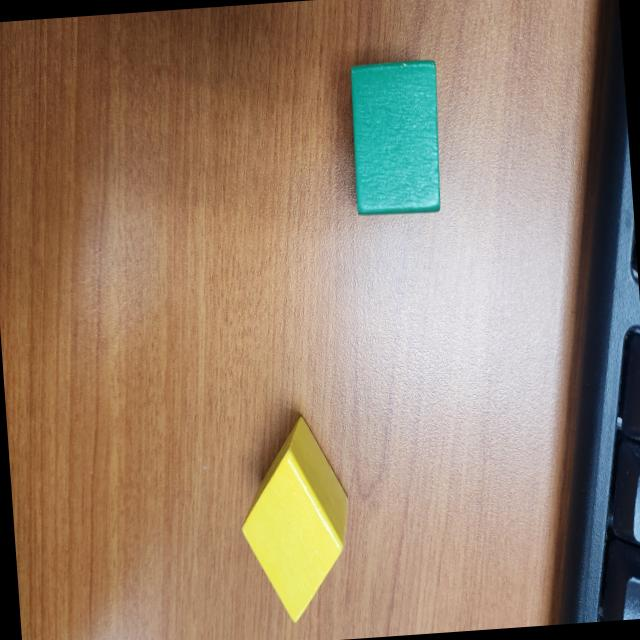green: (346, 60, 444, 219)
yellow: (241, 417, 349, 624)
